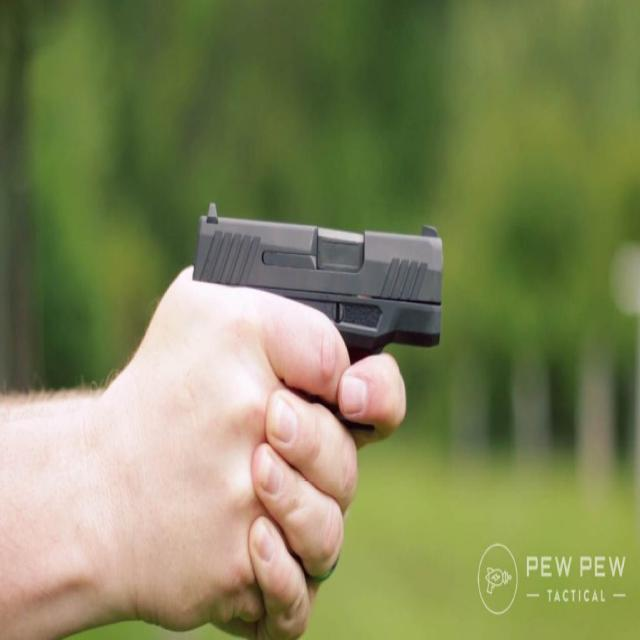HandGun: (192, 205, 444, 365)
